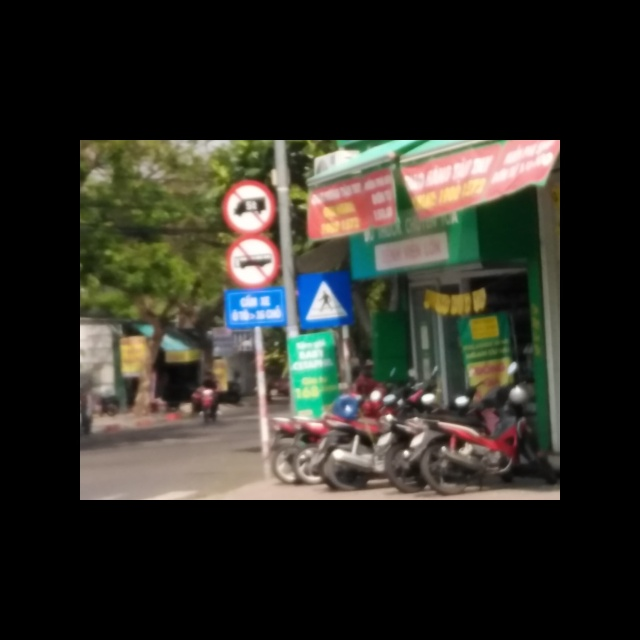Cấm xe tải: (220, 178, 277, 235)
Cấm xe xe khách: (227, 234, 279, 287)
Đường dành cho người đi bộ: (295, 270, 354, 328)
